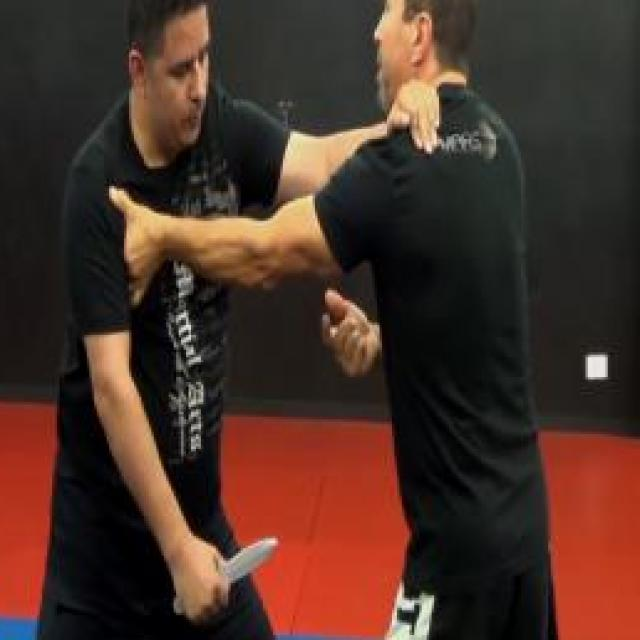knife: (171, 528, 280, 623)
